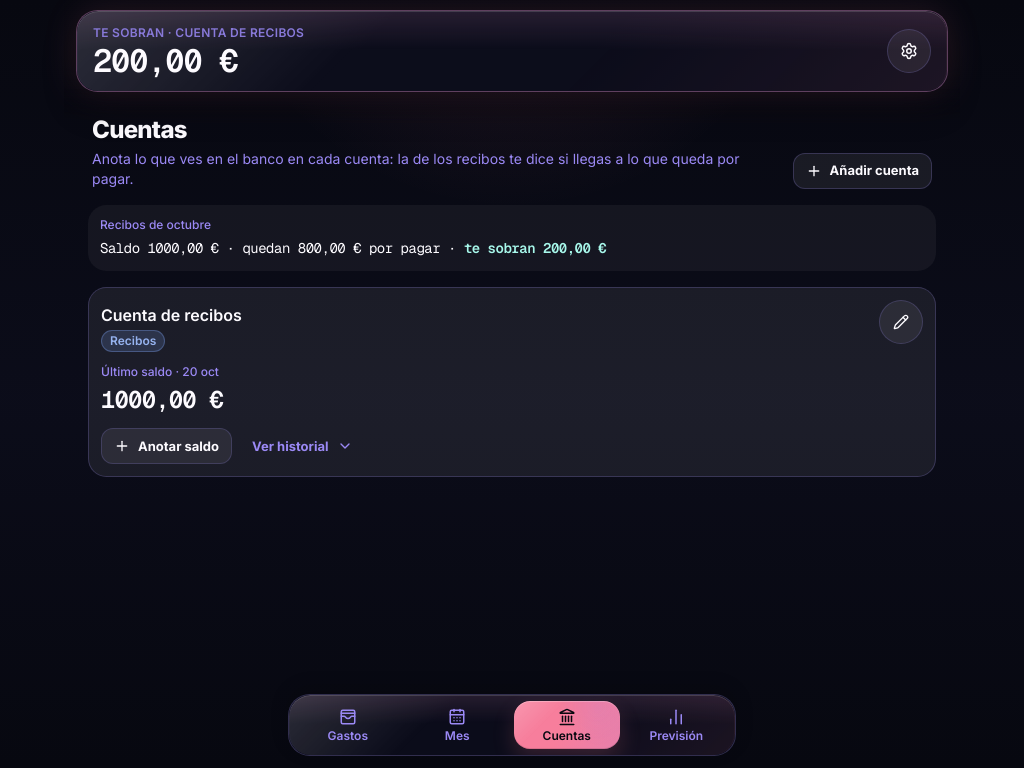
AccountsDashboard › deletes an account after confirming
Click the button named "Editar Cuenta de recibos".
click(901, 322)  # box [879,300,923,344]
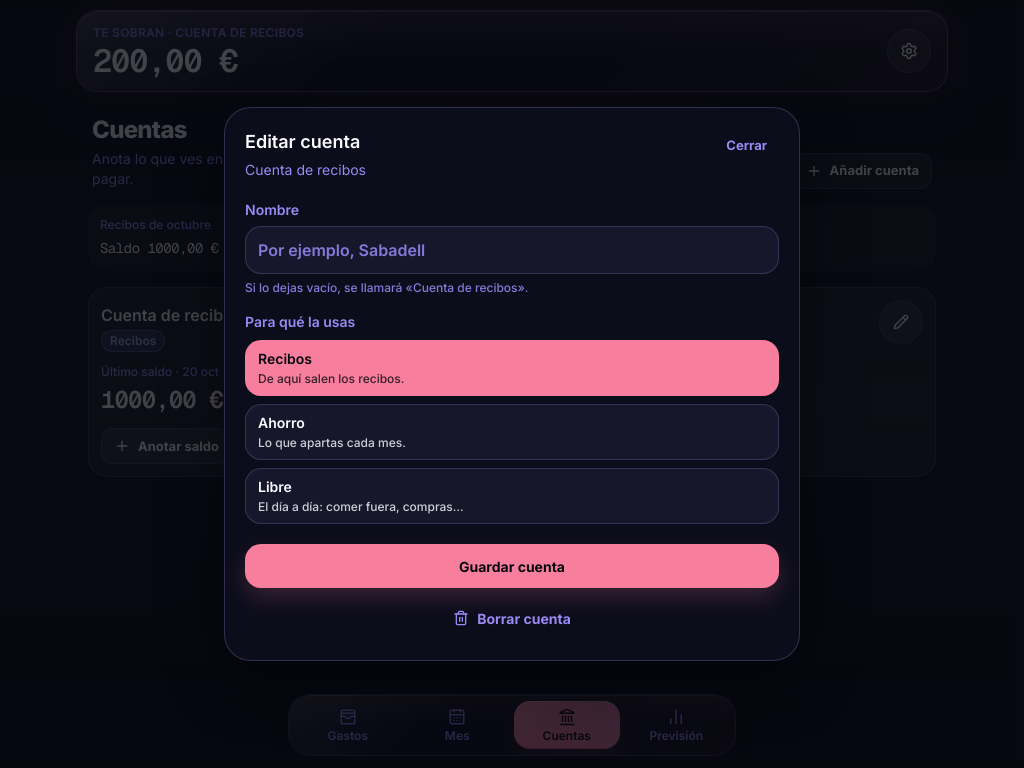
Click the button "Borrar cuenta".
click(512, 618)  # box [245,596,779,640]
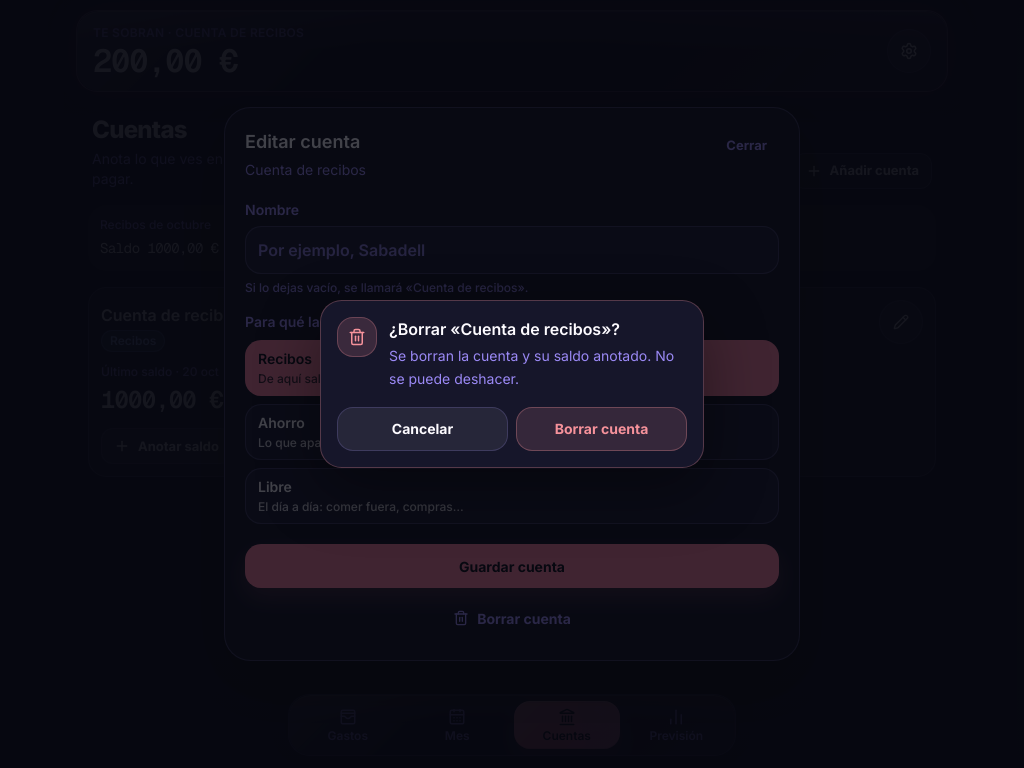
Result: the dialog "¿Borrar «Cuenta de recibos»?" shows "Se borran la cuenta y su saldo anotado." at [389,347,674,387]
Click the button "Borrar cuenta".
click(602, 429)  # box [516,407,687,451]
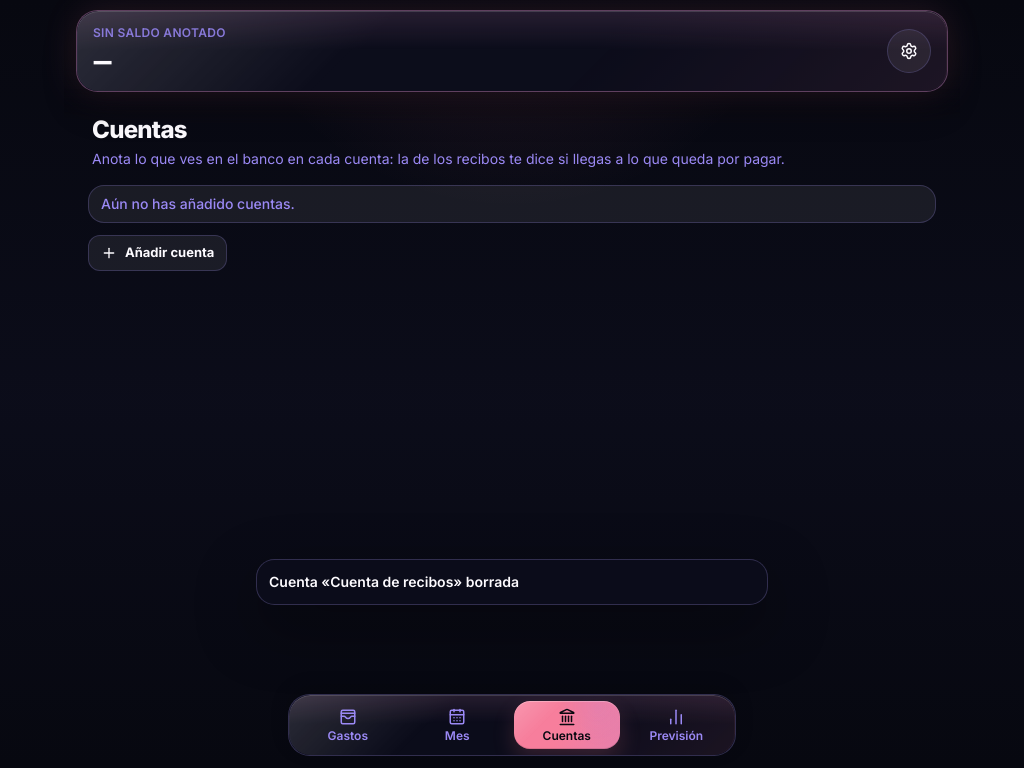
Result: the text "Aún no has añadido cuentas." is shown at [88,185,936,223]
Result: the heading "Editar cuenta" is gone
Result: the text "Sin saldo anotado" is shown at [93,25,226,41]
